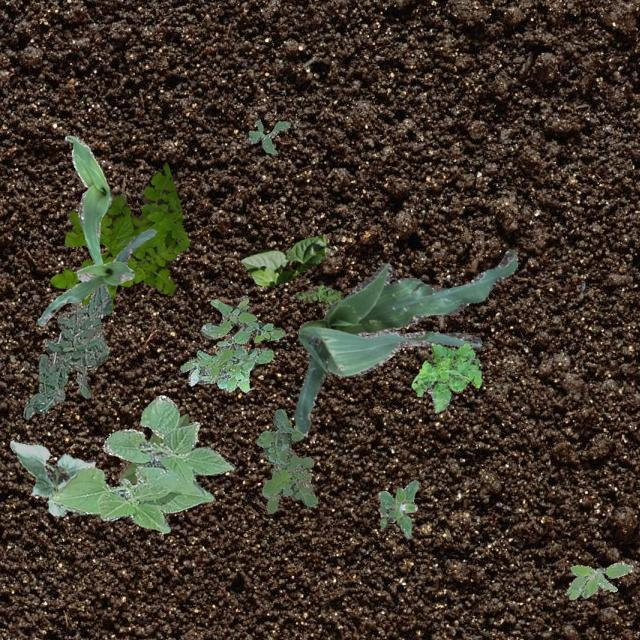crop: (294, 248, 516, 436), (48, 394, 234, 532), (38, 226, 156, 324), (8, 438, 94, 516), (64, 134, 112, 264), (118, 412, 188, 482), (240, 232, 328, 286)
weed: (48, 160, 188, 310), (22, 284, 110, 418), (178, 294, 284, 392), (254, 408, 316, 512), (410, 341, 480, 412), (377, 478, 418, 538), (566, 562, 632, 598), (247, 120, 290, 154), (294, 284, 342, 308)
